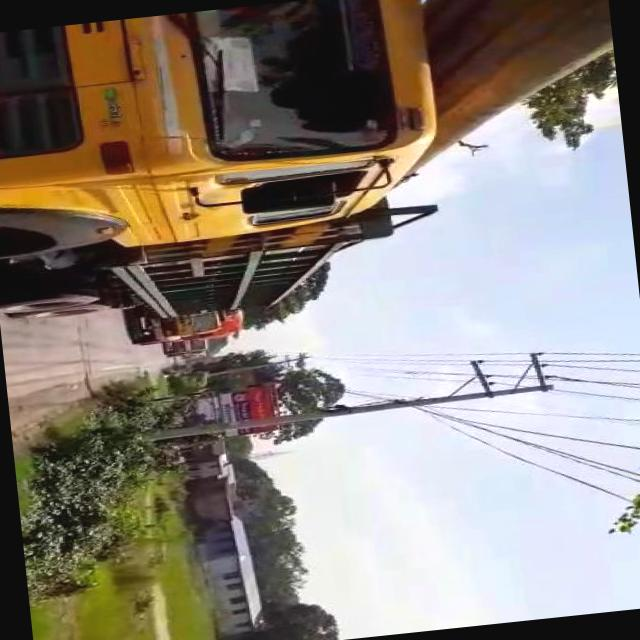truck: (0, 0, 457, 332), (135, 305, 238, 347), (169, 338, 208, 355)
